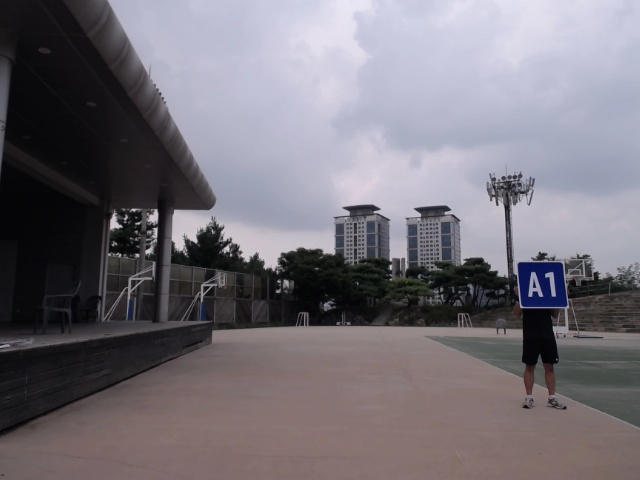delivery_a1: (517, 262, 568, 308)
